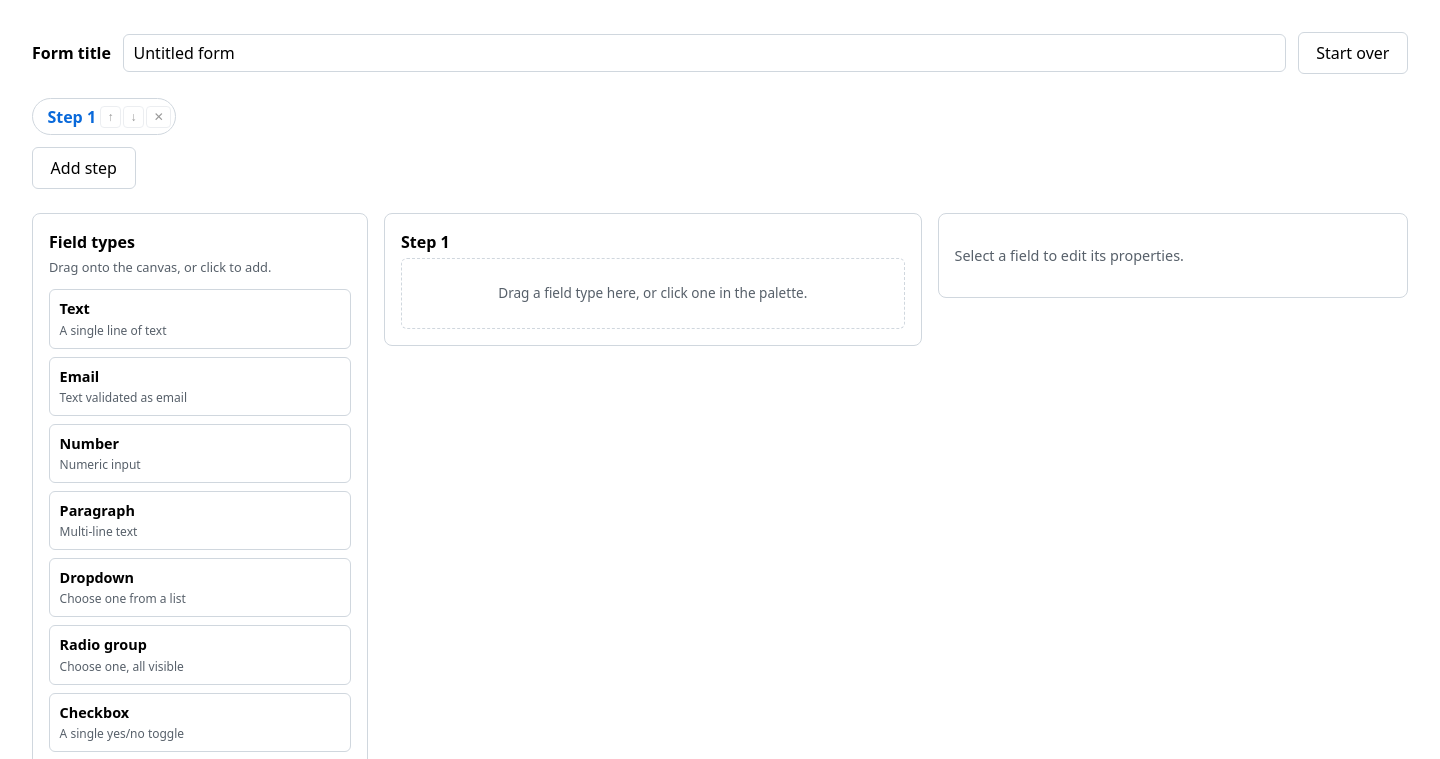
BuilderPage › Start over resets the whole schema back to one blank step
The width and height of the screenshot is (1440, 759).
Click the button "Text A single line of text" at (75, 309), box x1=49 y1=289 x2=351 y2=348
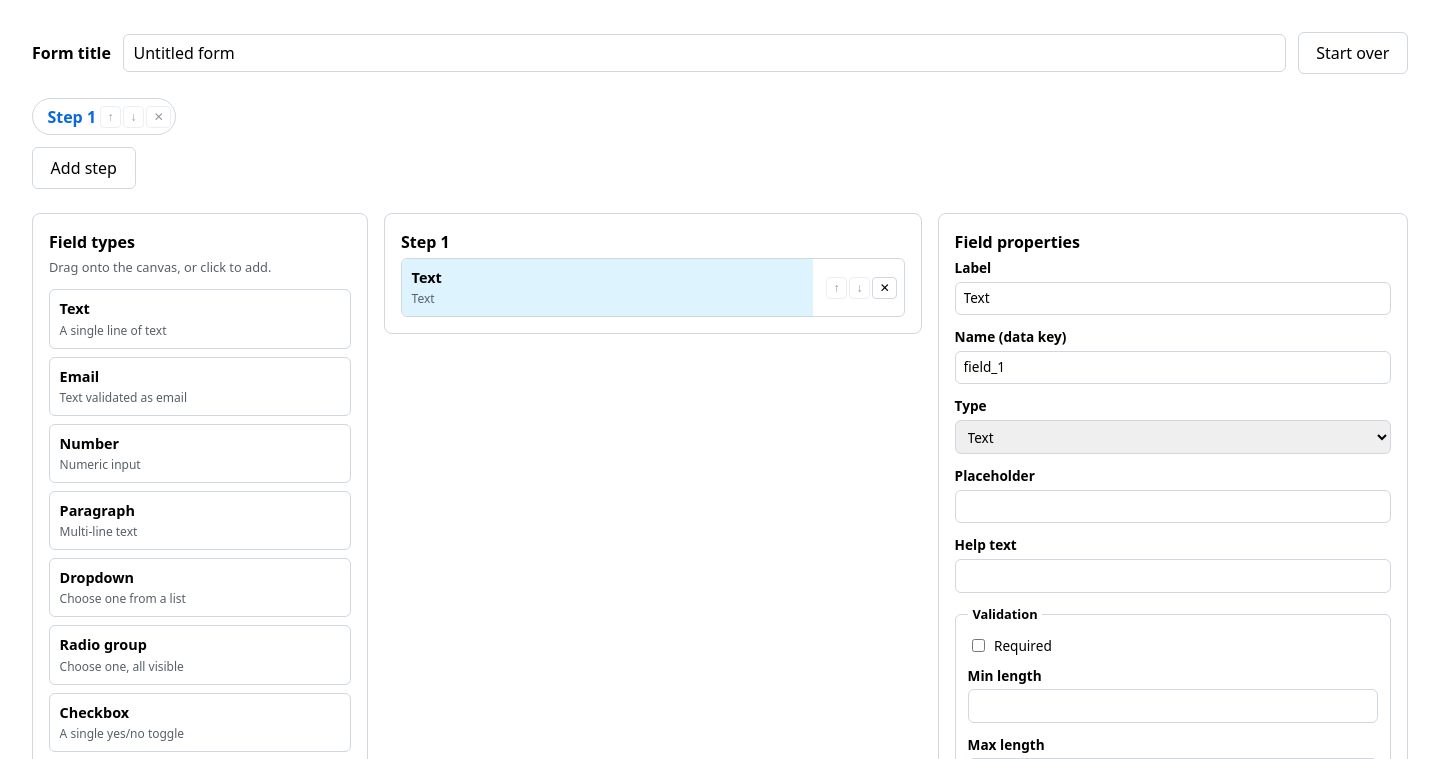
Click the button "Add step" at (84, 168), box x1=32 y1=147 x2=136 y2=189
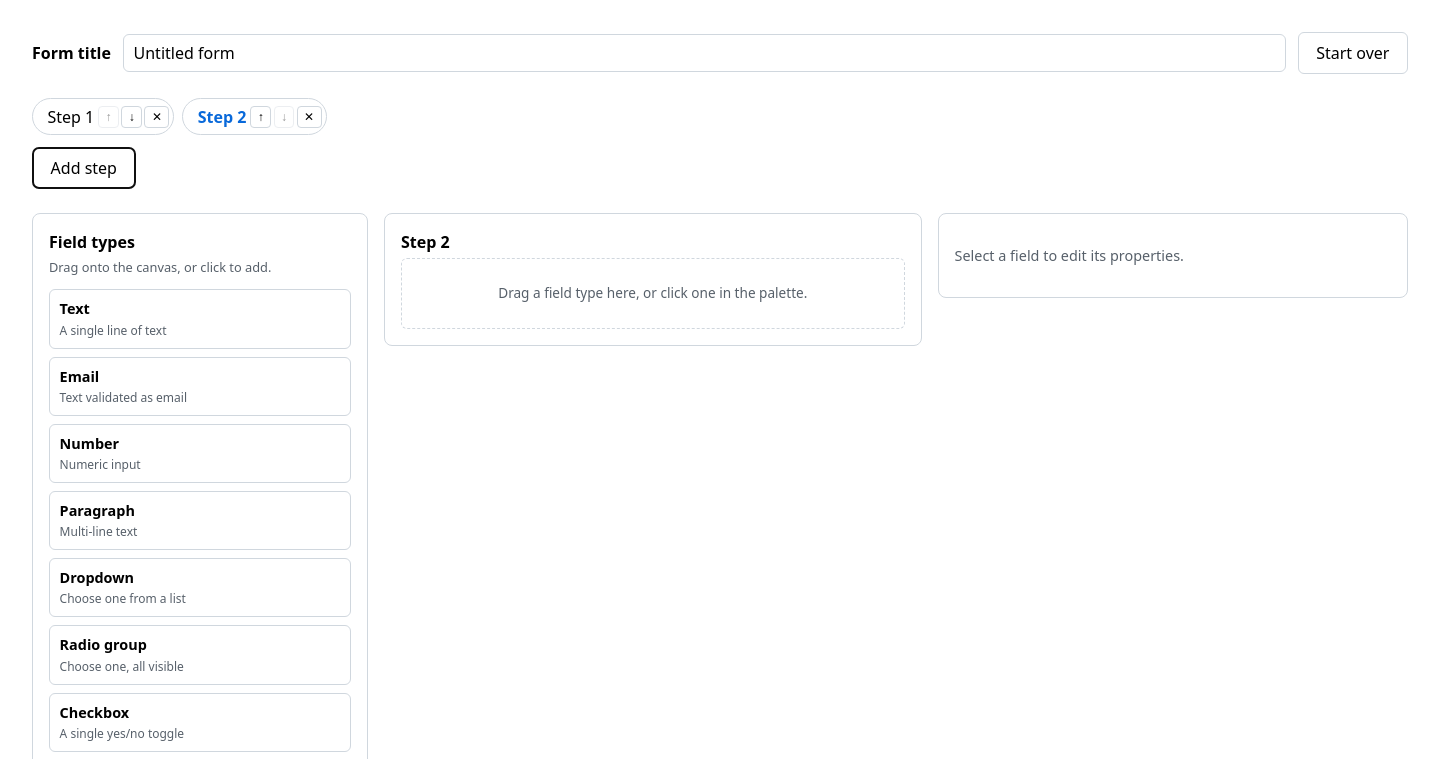
Expected: the heading "Step 2" is shown, x1=401 y1=231 x2=450 y2=253
Click the button "Start over" at (1353, 53), box x1=1298 y1=32 x2=1408 y2=74
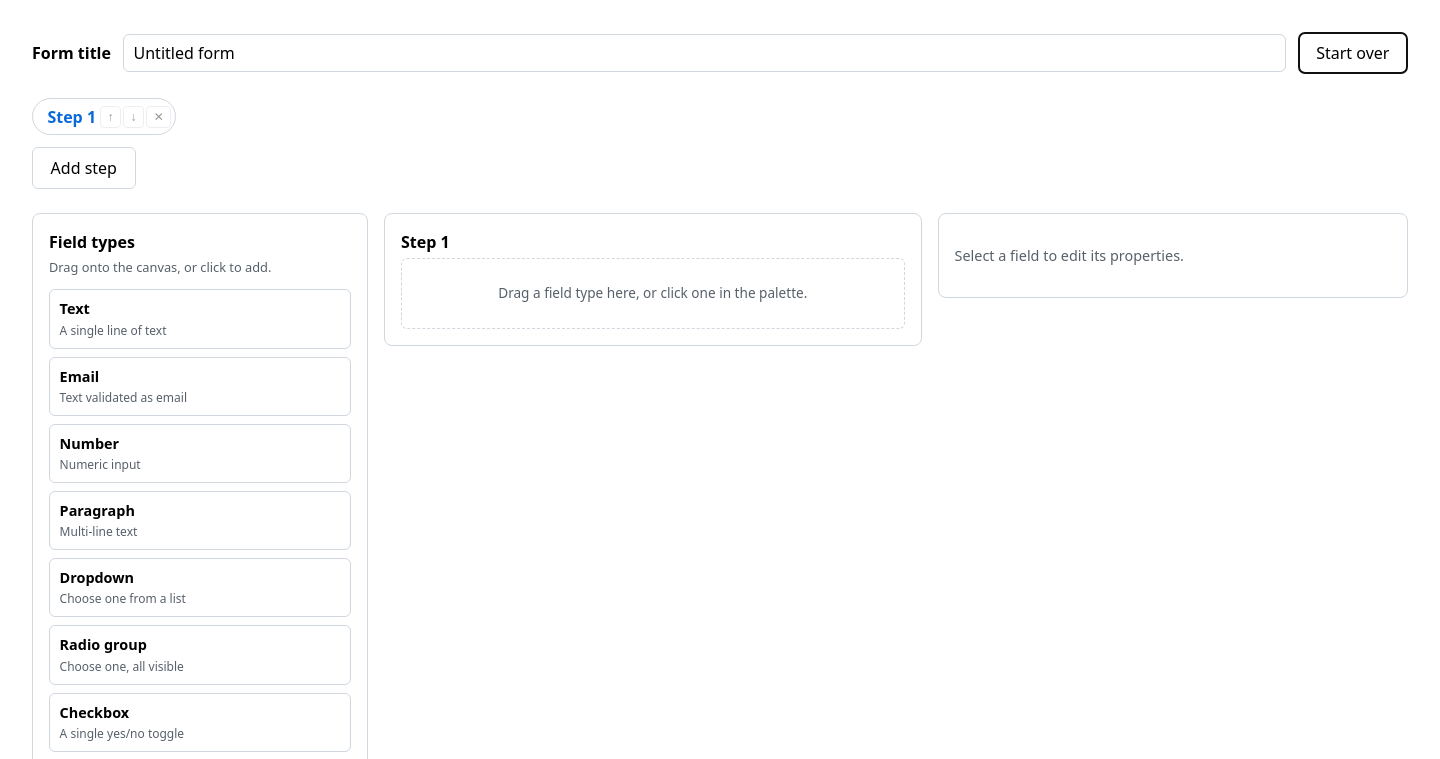
Expected: the text "Select a field to edit its properties." is shown, x1=955 y1=246 x2=1184 y2=264
Expected: the button "Step 2" is gone
